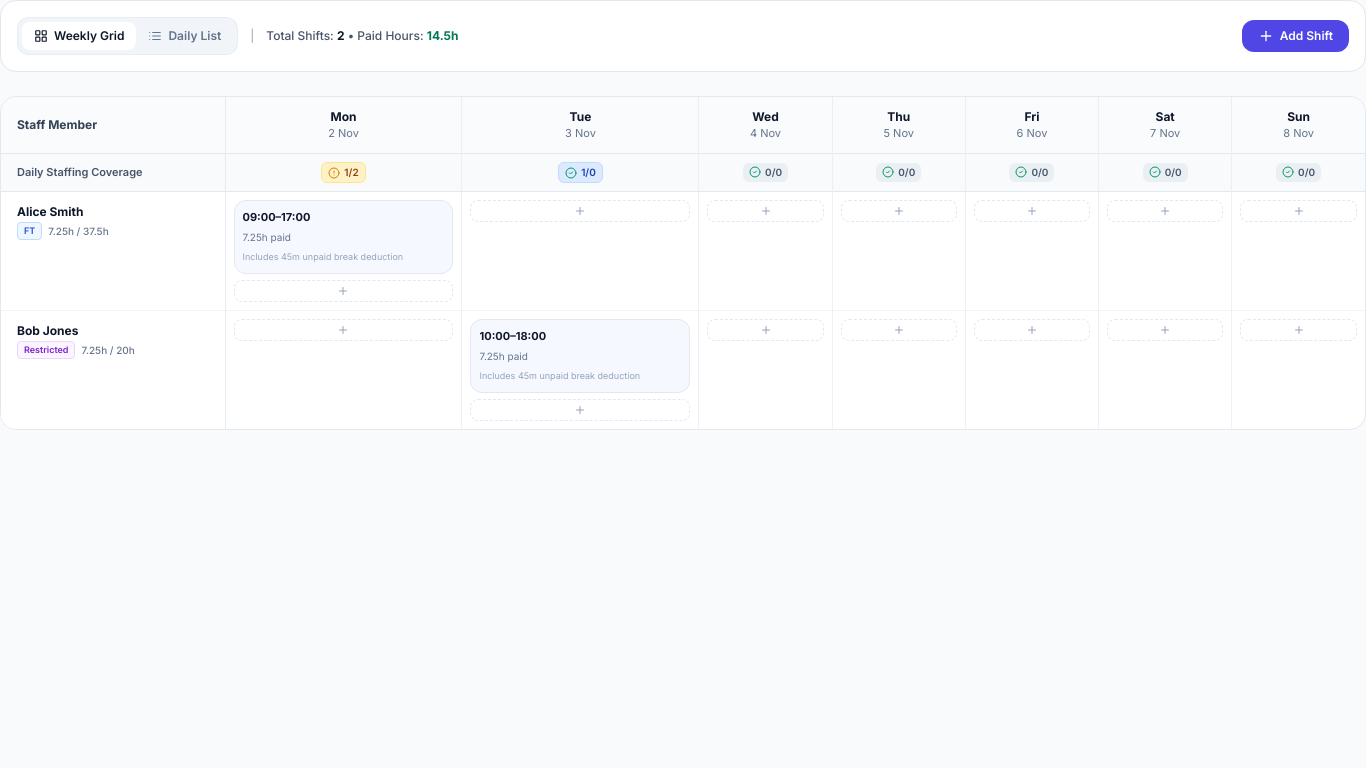
Milestone 6 Frontend - WeeklyRotaGrid & ShiftEditModal › switches to Daily List view when toggle is clicked
This screenshot has width=1366, height=768.
Step 1. Click the button "Daily List" → (185, 36), box top-left (136, 22), bottom-right (233, 50)
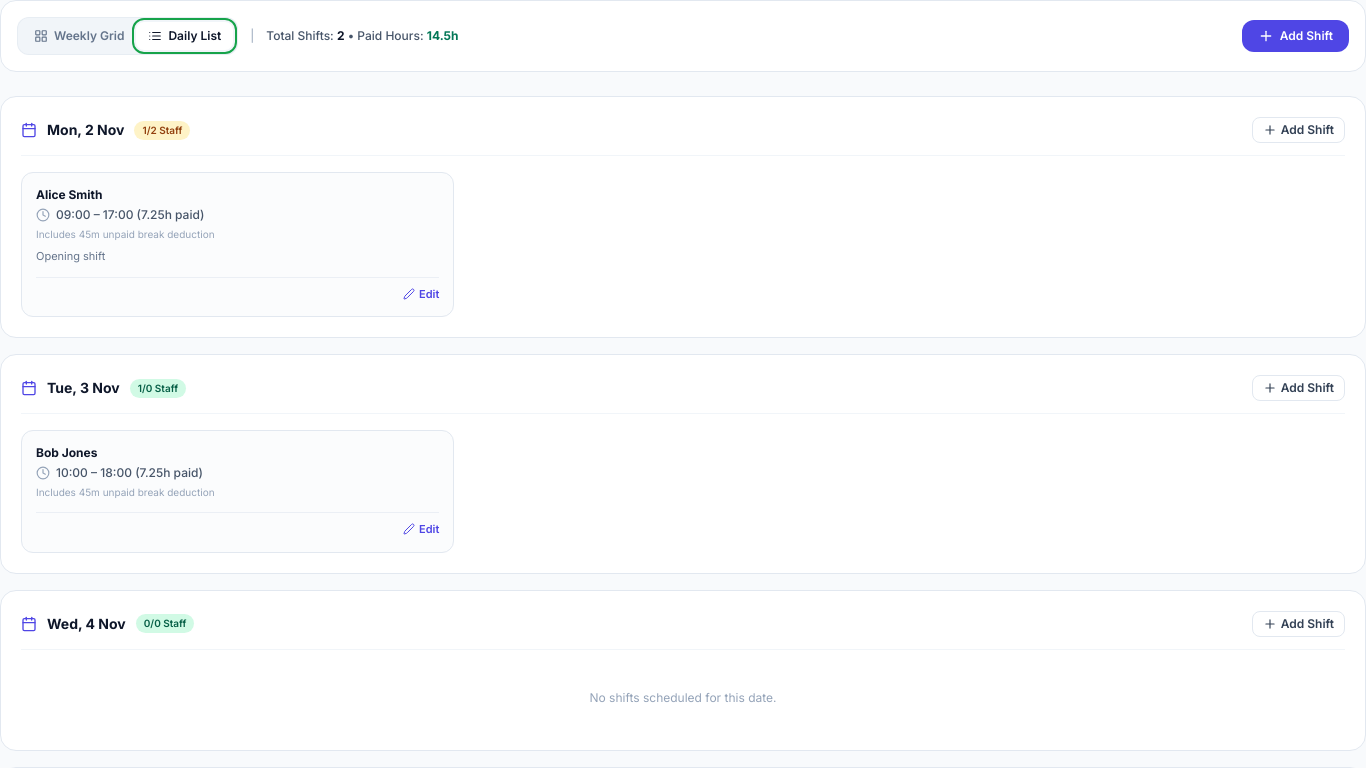
Expected: the text "Mon, 2 Nov" is shown, top-left (47, 120), bottom-right (124, 140)
Expected: the text "1/2 Staff" is shown, top-left (134, 120), bottom-right (190, 140)
